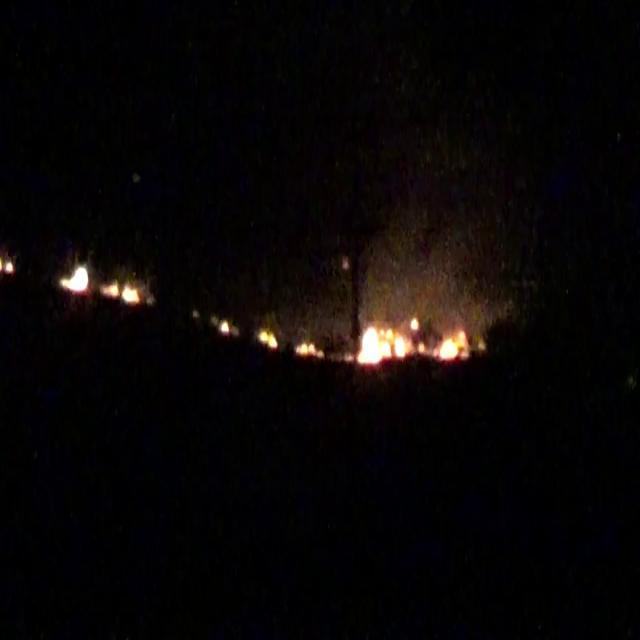Fire: (346, 318, 468, 367), (59, 268, 142, 304), (257, 327, 277, 350), (296, 342, 320, 358), (221, 316, 231, 334)
Smoke: (328, 200, 520, 326)
